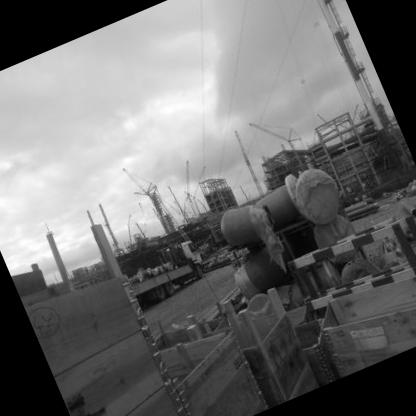truck: (97, 215, 222, 325)
